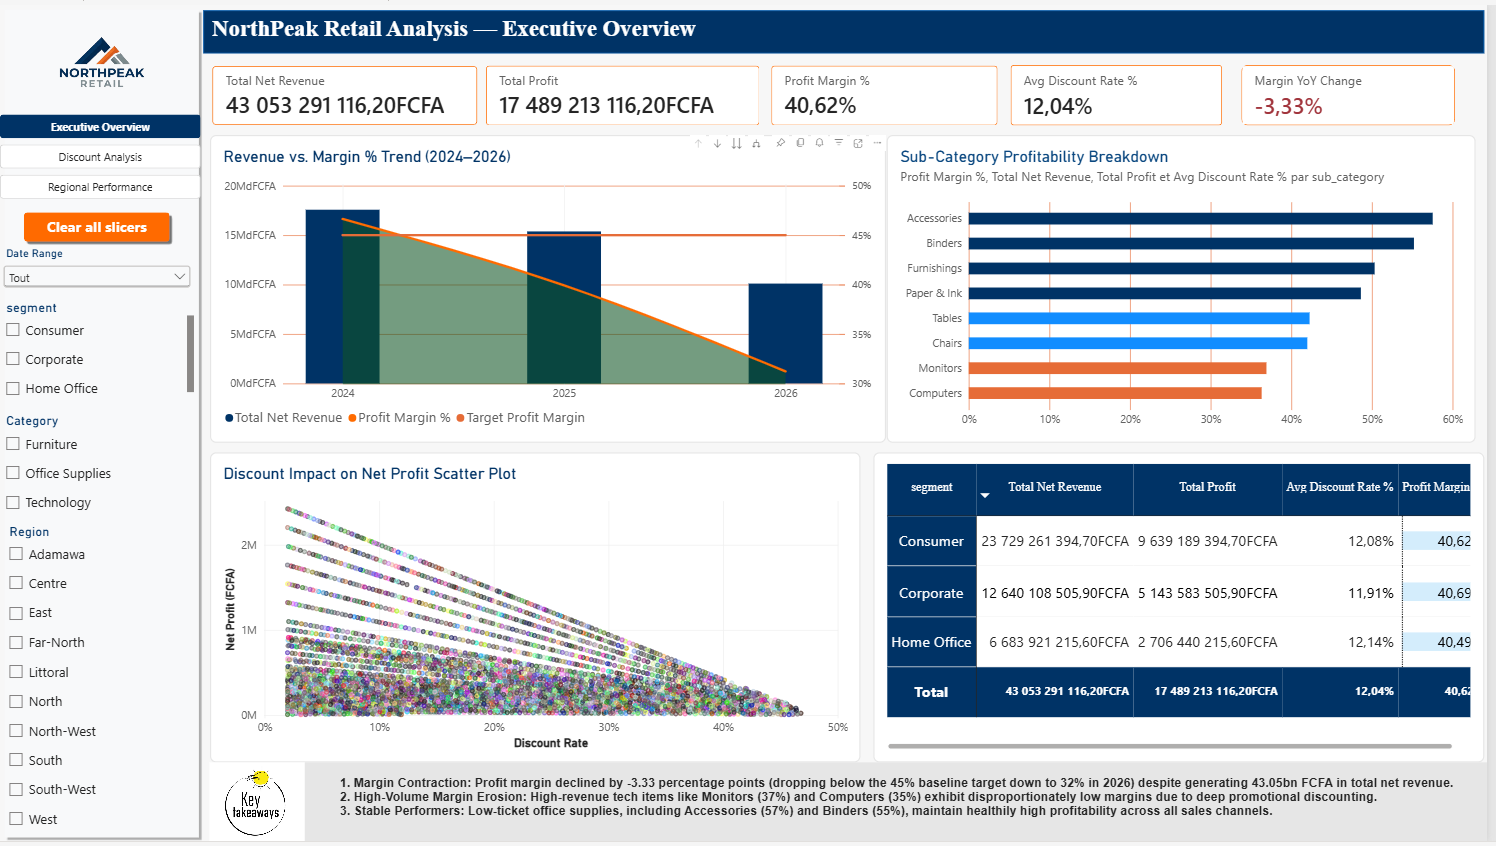

Layout of this report page (visuals, bound fields, positions):
{"tool":"powerbi","page":{"name":"Executive Overview","canvas":[1920,1080],"ordinal":0},"visuals":[{"type":"shape","box":[0,0,262.7,1080.6],"z":0},{"type":"shape","box":[262.3,6.6,1654.1,55.7],"z":1000},{"type":"textbox","title":"NorthPeak Retail Analysis — Executive Overview","box":[273.8,14.8,750.8,37.7],"z":2000},{"type":"cardVisual","fields":{"Data":["_Measures.Total Net Revenue"]},"box":[274,78.5,343.2,77.1],"z":3000},{"type":"cardVisual","fields":{"Data":["_Measures.Total Profit"]},"box":[627.8,78.5,353.8,77.1],"z":4000},{"type":"cardVisual","fields":{"Data":["_Measures.Profit Margin %"]},"box":[996.2,78.5,292.6,77.1],"z":5000},{"type":"cardVisual","fields":{"Data":["_Measures.Margin YoY Change"]},"box":[1602.7,77.1,276.7,78.5],"z":6000},{"type":"cardVisual","fields":{"Data":["_Measures.Avg Discount Rate %"]},"box":[1304.8,77.1,274,78.5],"z":7000},{"type":"lineClusteredColumnComboChart","title":"Revenue vs. Margin % Trend (2024–2026)","fields":{"Category":["Dim_Date.year","Dim_Date.quarter"],"Y":["_Measures.Total Net Revenue"],"Y2":["_Measures.Profit Margin %","_Measures.Target Profit Margin"]},"box":[271.3,167.6,872.5,397.7],"z":8000},{"type":"clusteredBarChart","title":"Sub-Category Profitability Breakdown","fields":{"Category":["Dim_Product.sub_category"],"Y":["_Measures.Profit Margin %"]},"box":[1145.2,167.6,760.8,397.7],"z":9000},{"type":"scatterChart","title":"Discount Impact on Net Profit Scatter Plot","fields":{"Category":["Fact_Sales.order_id"],"X":["Sum(Fact_Sales.discount_pct)"],"Y":["Sum(Fact_Sales.net_profit)"]},"box":[271.3,577.2,840.6,400.3],"z":10000},{"type":"pivotTable","fields":{"Rows":["Dim_Customer.segment"],"Values":["_Measures.Total Net Revenue","_Measures.Total Profit","_Measures.Avg Discount Rate %","_Measures.Profit Margin %"]},"box":[1127.9,577.2,788.7,400.3],"z":11000},{"type":"slicer","fields":{"Values":["Dim_Geography.region"]},"box":[4,670.3,251.4,409.7],"z":12000},{"type":"slicer","fields":{"Values":["Dim_Product.category"]},"box":[0,528,171.6,142.3],"z":13000},{"type":"slicer","fields":{"Values":["Dim_Customer.segment"]},"box":[0,381.7,249.9,130.3],"z":14000},{"type":"slicer","fields":{"Values":["Dim_Date.full_date"]},"box":[0,312.6,250.6,58],"z":15000},{"type":"actionButton","box":[25.3,262,200,50],"z":16000},{"type":"pageNavigator","box":[0,141,259.4,111.7],"z":17000},{"type":"image","box":[4,6.7,255.4,134.3],"z":18000},{"type":"shape","box":[393.7,977.6,1526.9,102.4],"z":19000},{"type":"image","box":[270,977.6,123.7,102.4],"z":20000},{"type":"textbox","box":[438.9,994.9,1481.7,85.1],"z":21000}]}

Visuals, with their boxes on the page's 1920x1080 design canvas (x1, y1, x2, y2). These are canvas units, not pixel positions in the 1496x846 screenshot, which may show the page scaled, cropped or inside an application window:
shape: (0, 0, 263, 1081)
shape: (262, 7, 1916, 62)
"NorthPeak Retail Analysis — Executive Overview" textbox: (274, 15, 1025, 52)
cardVisual - _Measures.Total Net Revenue: (274, 78, 617, 156)
cardVisual - _Measures.Total Profit: (628, 78, 982, 156)
cardVisual - _Measures.Profit Margin %: (996, 78, 1289, 156)
cardVisual - _Measures.Margin YoY Change: (1603, 77, 1879, 156)
cardVisual - _Measures.Avg Discount Rate %: (1305, 77, 1579, 156)
"Revenue vs. Margin % Trend (2024–2026)" lineClusteredColumnComboChart: (271, 168, 1144, 565)
"Sub-Category Profitability Breakdown" clusteredBarChart: (1145, 168, 1906, 565)
"Discount Impact on Net Profit Scatter Plot" scatterChart: (271, 577, 1112, 978)
pivotTable - Dim_Customer.segment x _Measures.Total Net Revenue: (1128, 577, 1917, 978)
slicer - Dim_Geography.region: (4, 670, 255, 1080)
slicer - Dim_Product.category: (0, 528, 172, 670)
slicer - Dim_Customer.segment: (0, 382, 250, 512)
slicer - Dim_Date.full_date: (0, 313, 251, 371)
actionButton: (25, 262, 225, 312)
pageNavigator: (0, 141, 259, 253)
image: (4, 7, 259, 141)
shape: (394, 978, 1921, 1080)
image: (270, 978, 394, 1080)
textbox: (439, 995, 1921, 1080)
